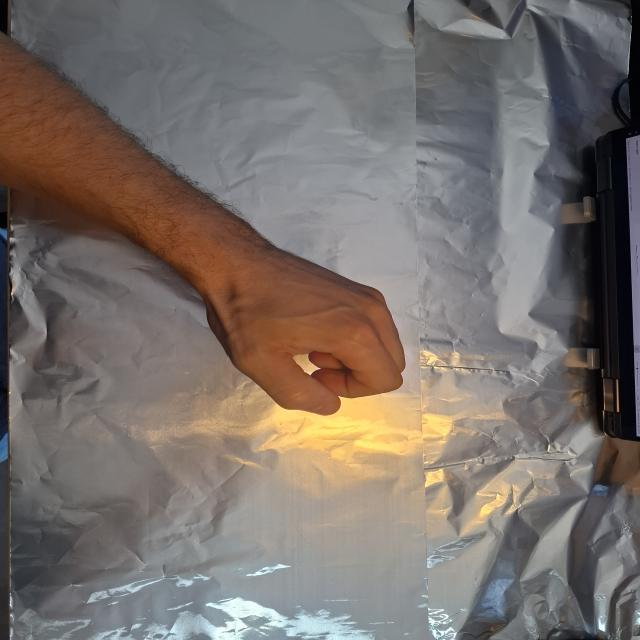glove_off: (197, 248, 410, 419)
